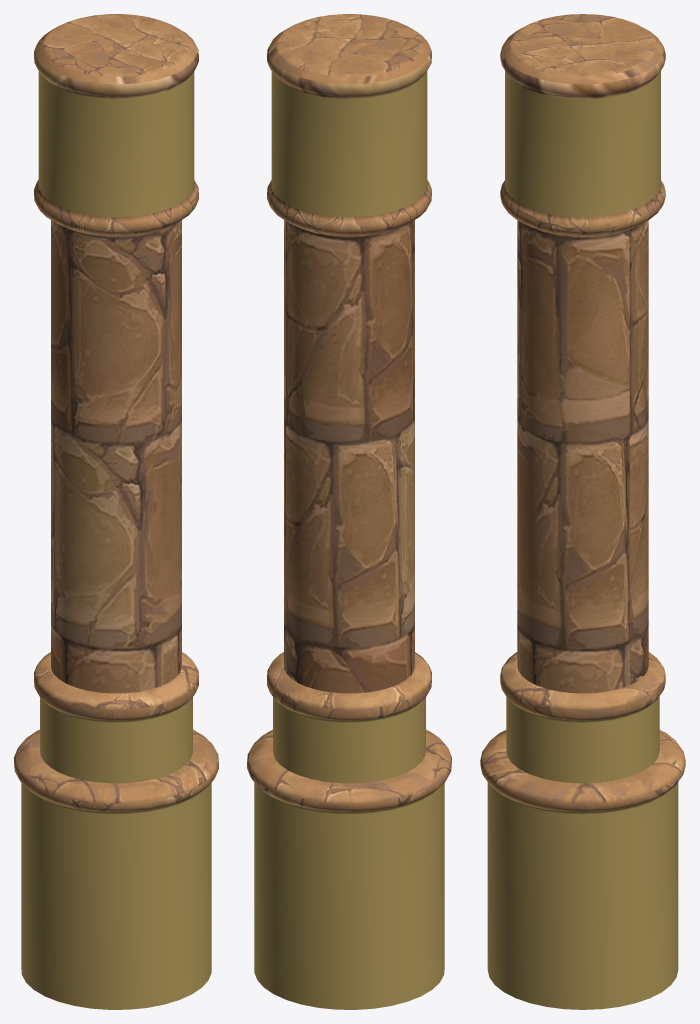
File: Pillar.fbx
3 views of the same model, side by side, from view 1: azimuth 30°, elevation 25°; view 2: azimuth 150°, elevation 25°; view 3: azimuth 270°, elevation 25° (orthographic).
Parts seen in each view (by area): view 1: Colonne.001; view 2: Colonne.001; view 3: Colonne.001.
Part boxes in pixels (bbox=[...]): Colonne.001: bbox=[14, 14, 218, 1009]; Colonne.001: bbox=[247, 14, 451, 1009]; Colonne.001: bbox=[480, 14, 685, 1009].
Size of the model in its own units: 812 by 4038 by 812.
